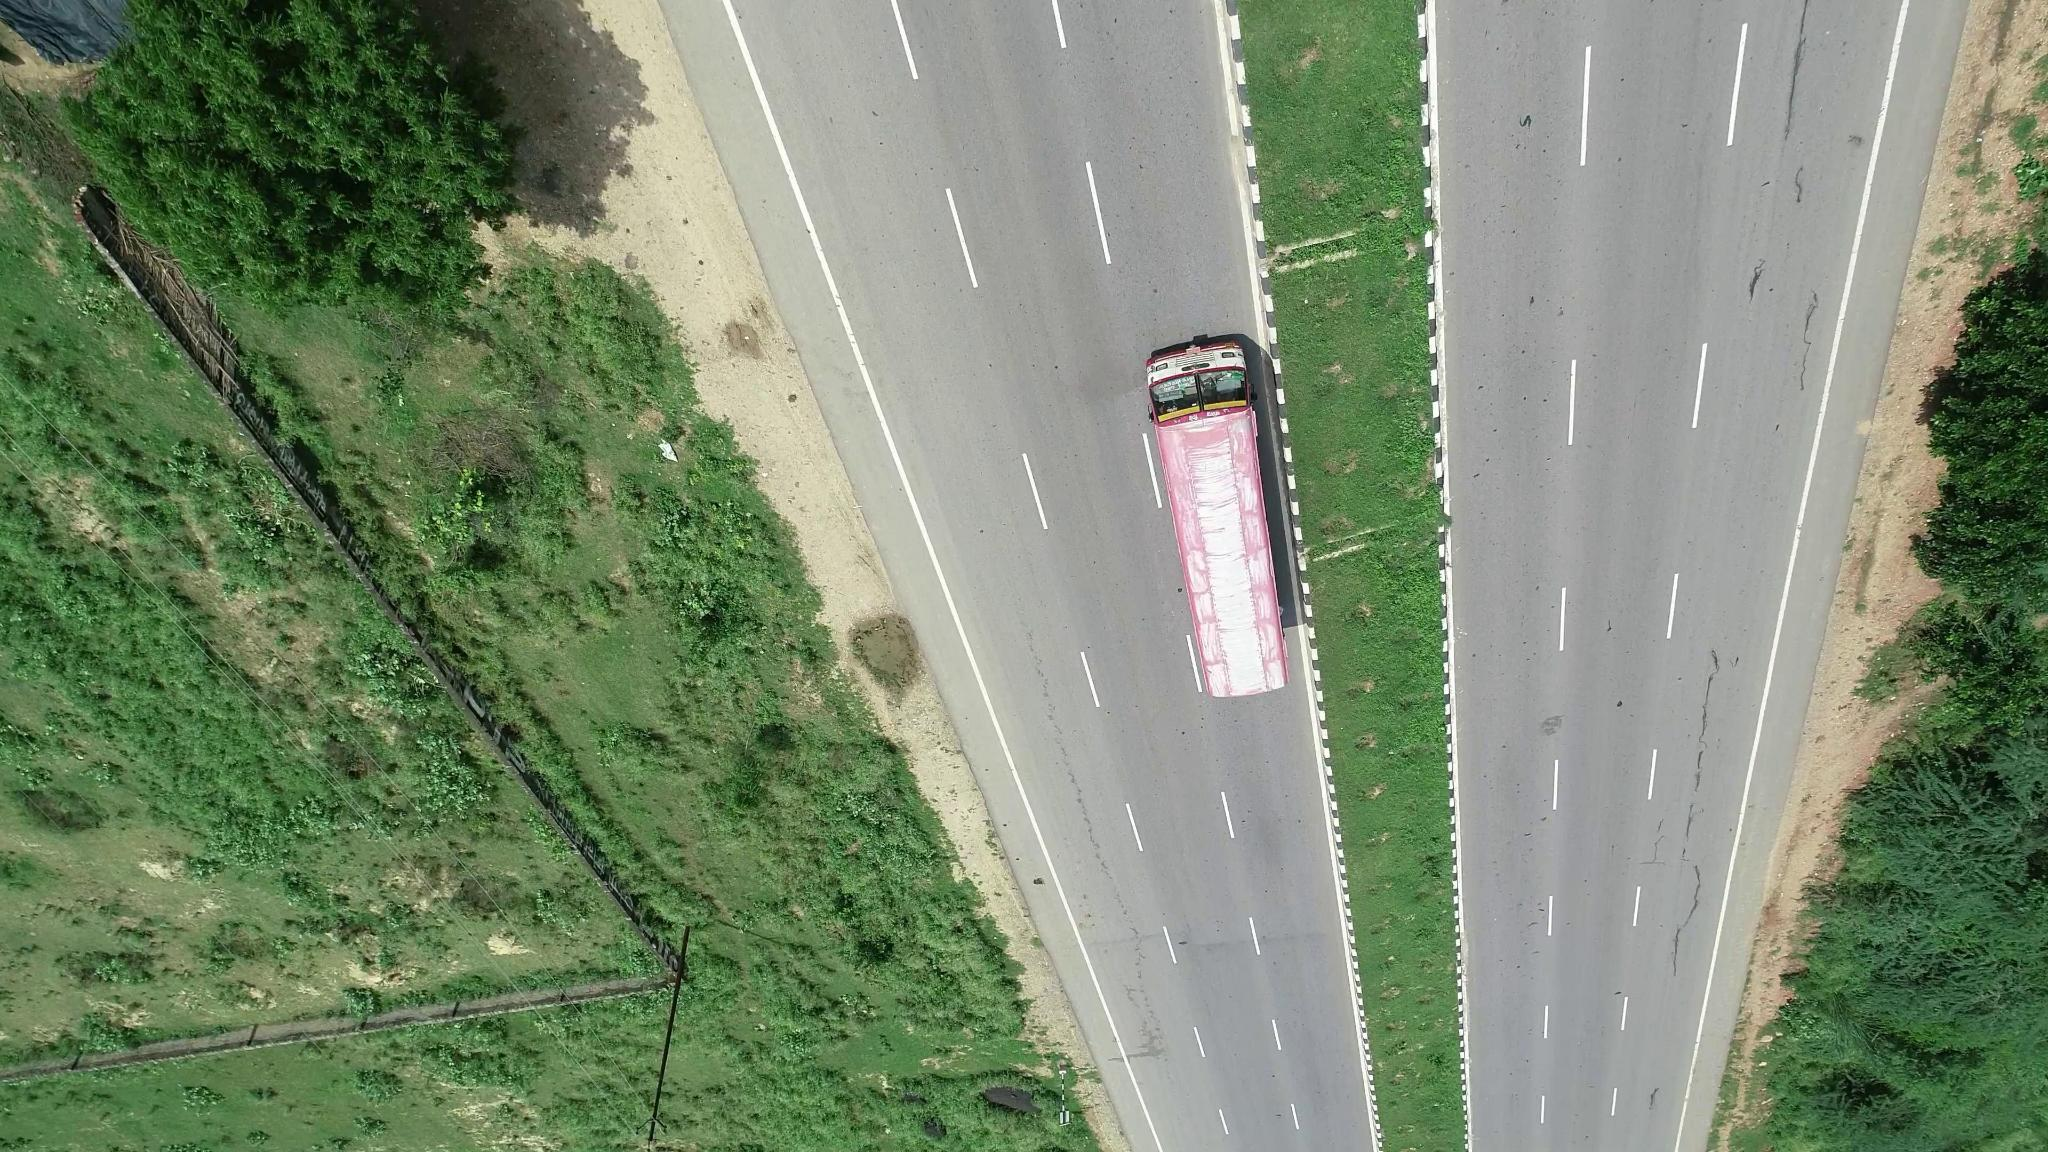Cracks: (1656, 658, 1734, 971), (1768, 8, 1822, 167)
